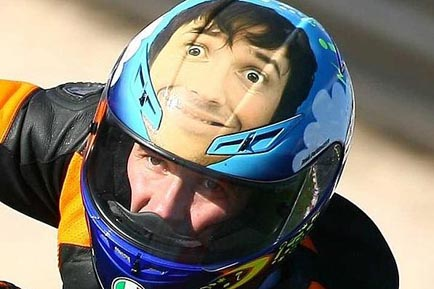helmet: (73, 5, 357, 288)
